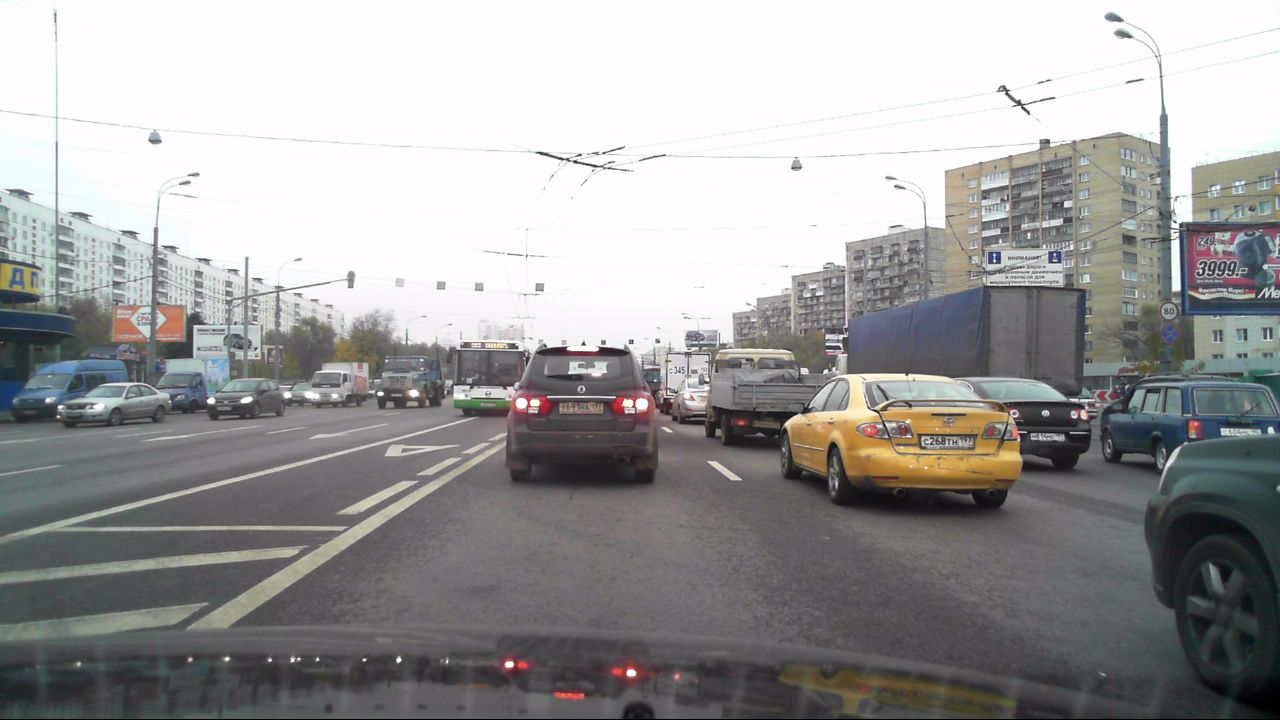No Parking: (1158, 325, 1177, 345)
